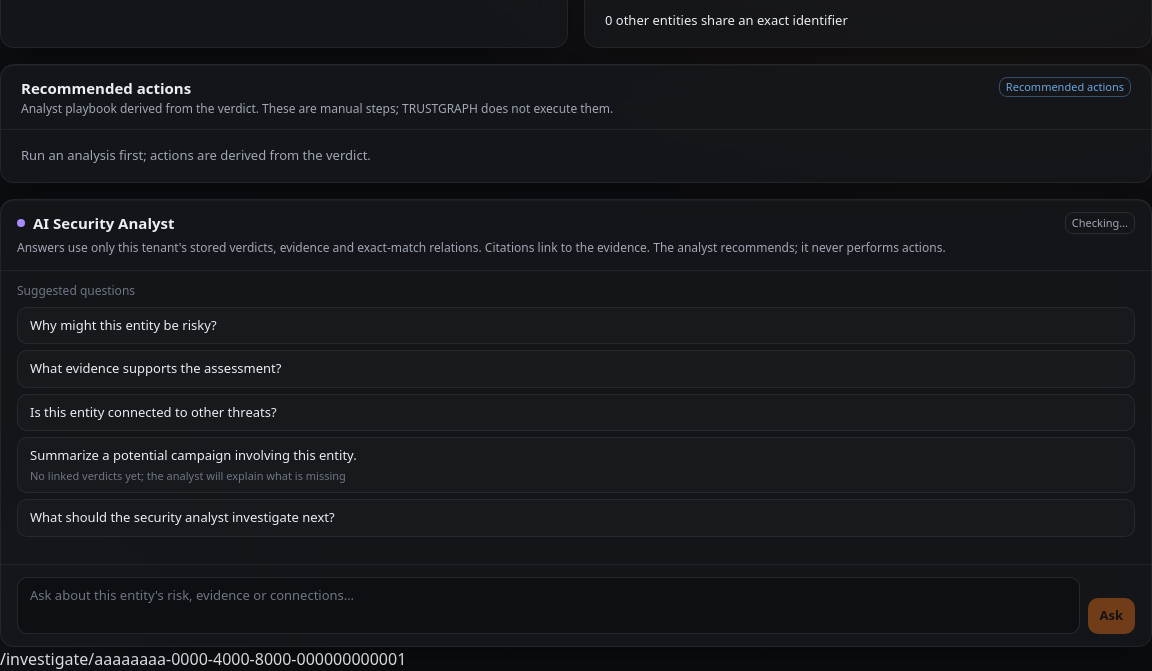
Test: Investigation workspace › labels a grounded AI answer and discloses what it used
(page scrolled)
Step 1. Click the button "What evidence supports the assessment?" → (156, 368), box [17,350,1135,388]
(page scrolled)
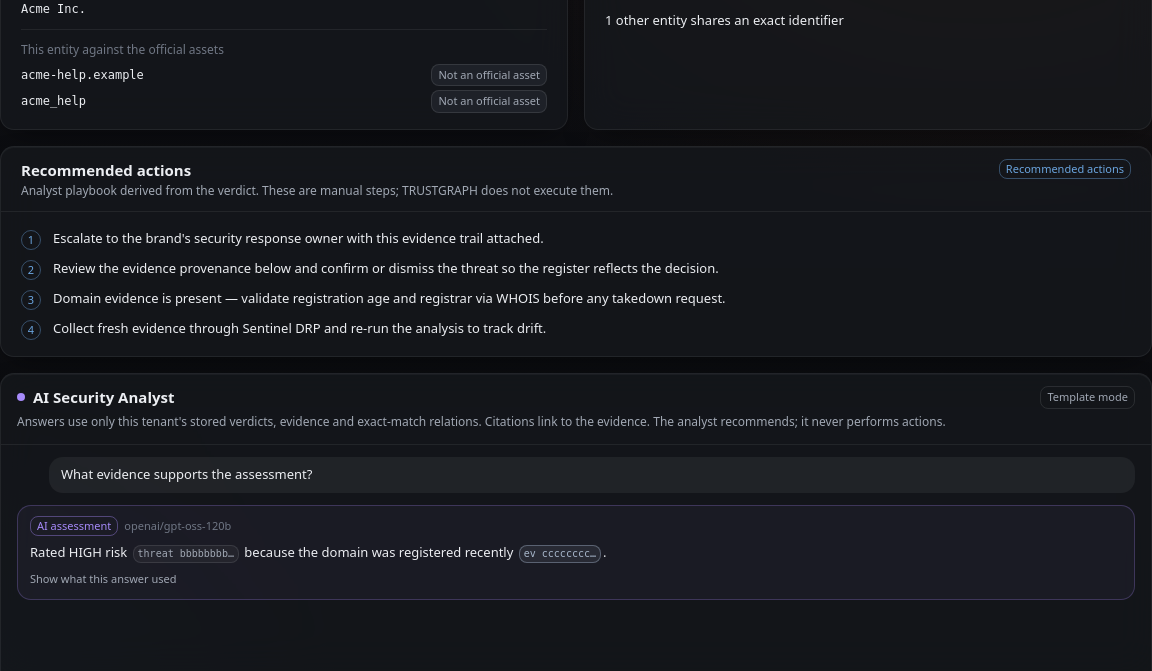
Check: the text "AI assessment" is shown, box [30,516,118,536]
Step 2. Click the button "Show what this answer used" → (103, 580), box [30,571,176,588]
(page scrolled)
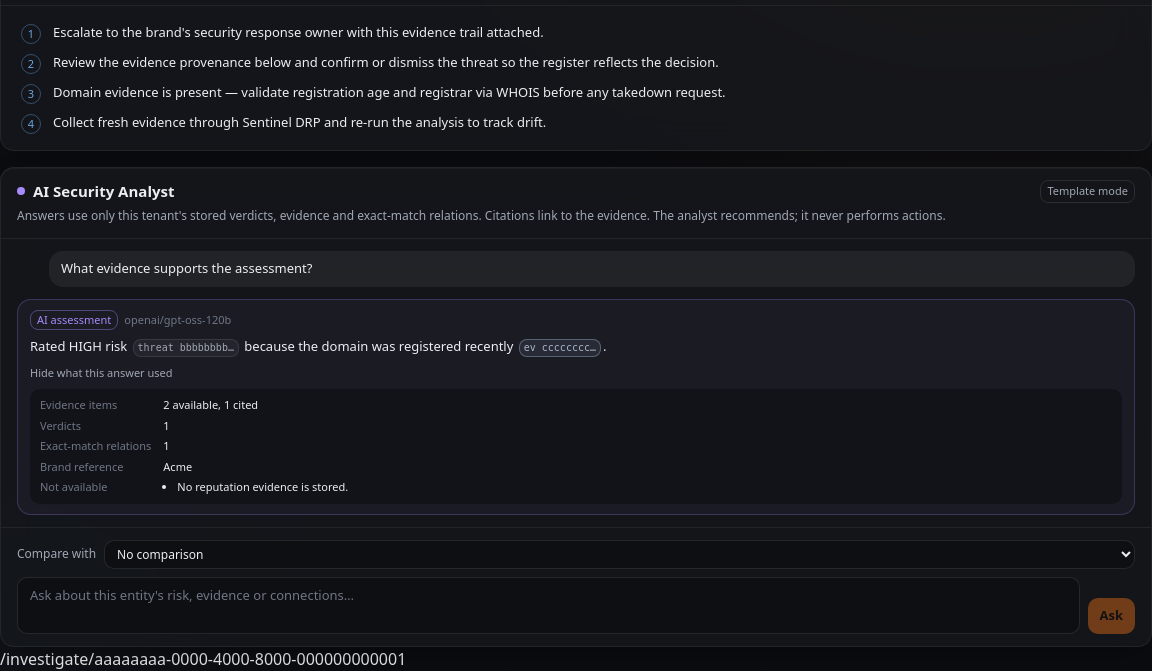
Check: the text "2 available, 1 cited" is shown, box [163,397,258,412]
Check: the list item "No reputation evidence is stored." is shown, box [177,479,348,494]
